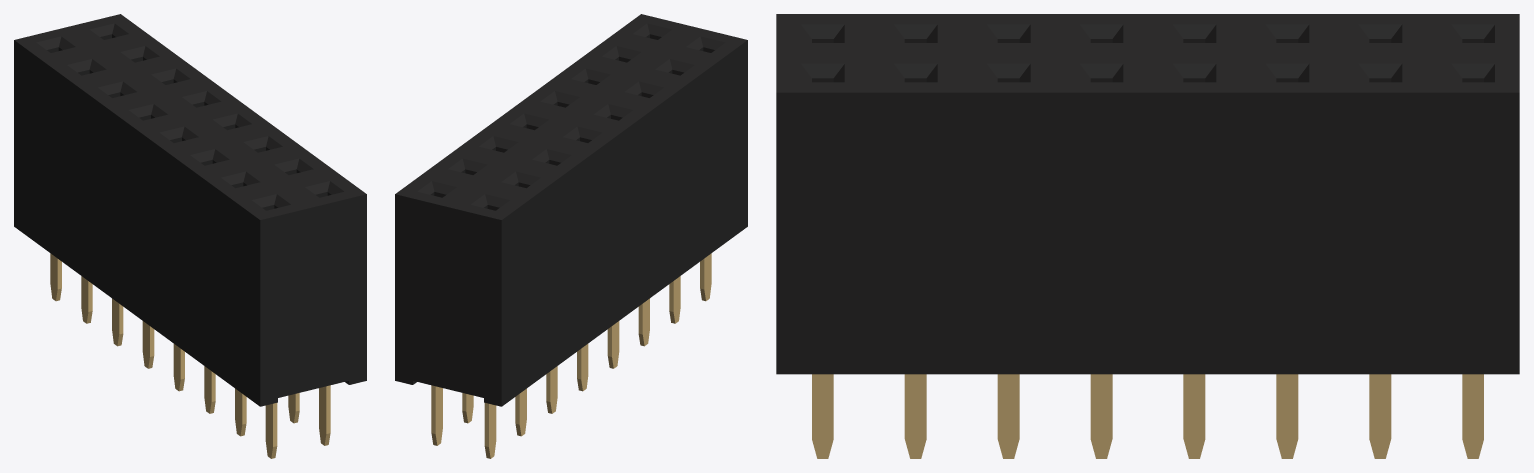
File: PinSocket_2x08_P2.54mm_Vertical.glb
3 renders of one model, left to right at view 1: azimuth 30°, elevation 25°; view 2: azimuth 150°, elevation 25°; view 3: azimuth 270°, elevation 25°, orthographic. The views are drawn at different scales.
Visible parts, largest first — view 1: =>[0:1:1:3]; view 2: =>[0:1:1:3]; view 3: =>[0:1:1:3].
Boxes of the visible parts, box(x1,y1,x2,y2) form: =>[0:1:1:3]: box(14, 14, 366, 458); =>[0:1:1:3]: box(395, 14, 747, 458); =>[0:1:1:3]: box(776, 14, 1519, 458).
Size of the model in its own units: 0.00508 by 0.0116 by 0.0203.
